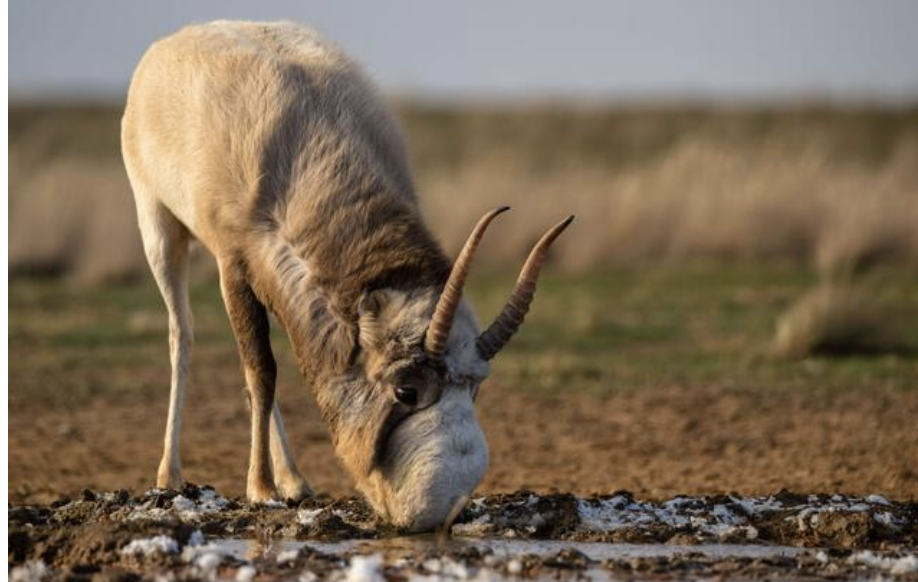saiga: (114, 15, 575, 504)
